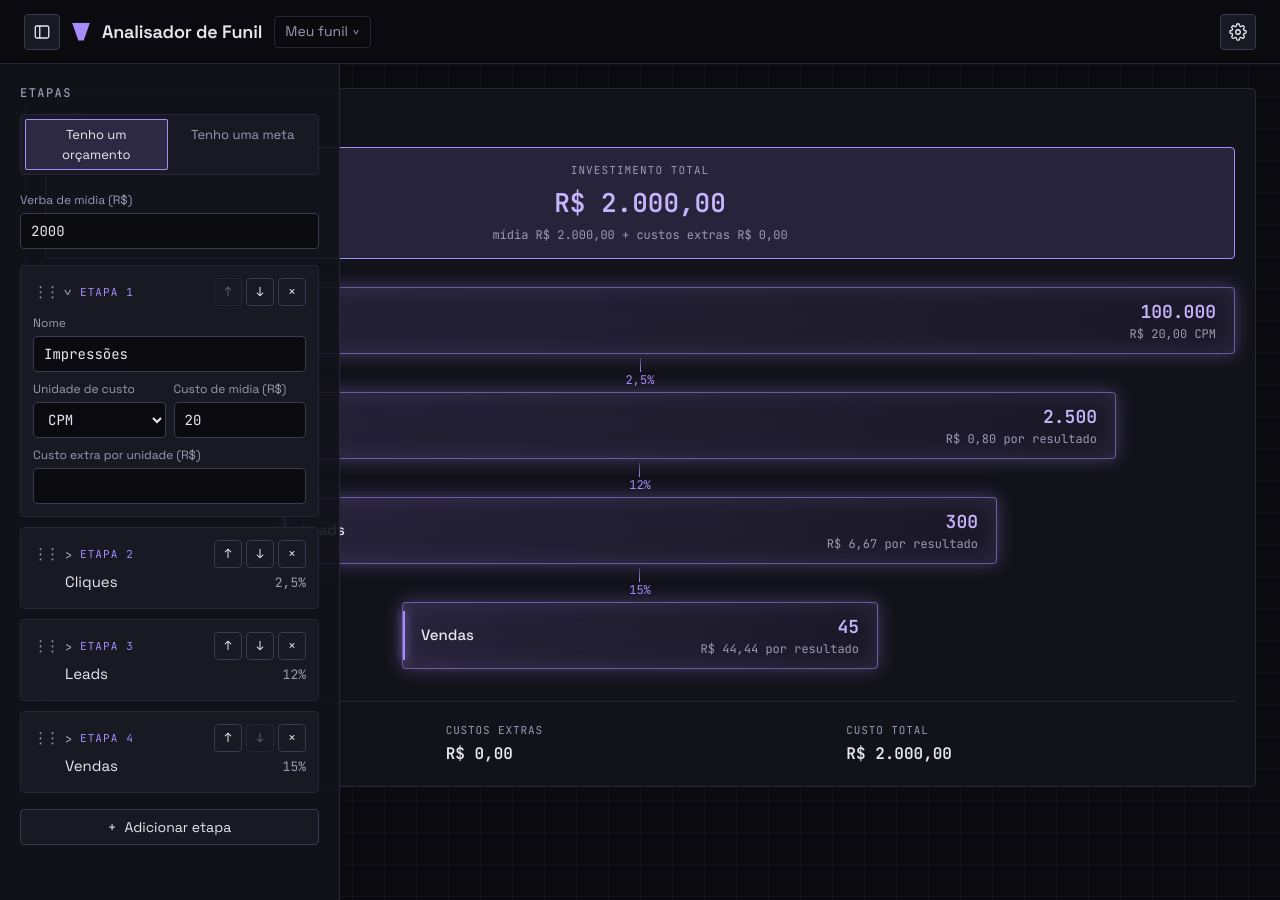
Scenario: trocar de funil pela lista mostra as etapas e os valores do outro
Click the button "Meu funil ›" at (322, 32), box [274, 16, 371, 48]
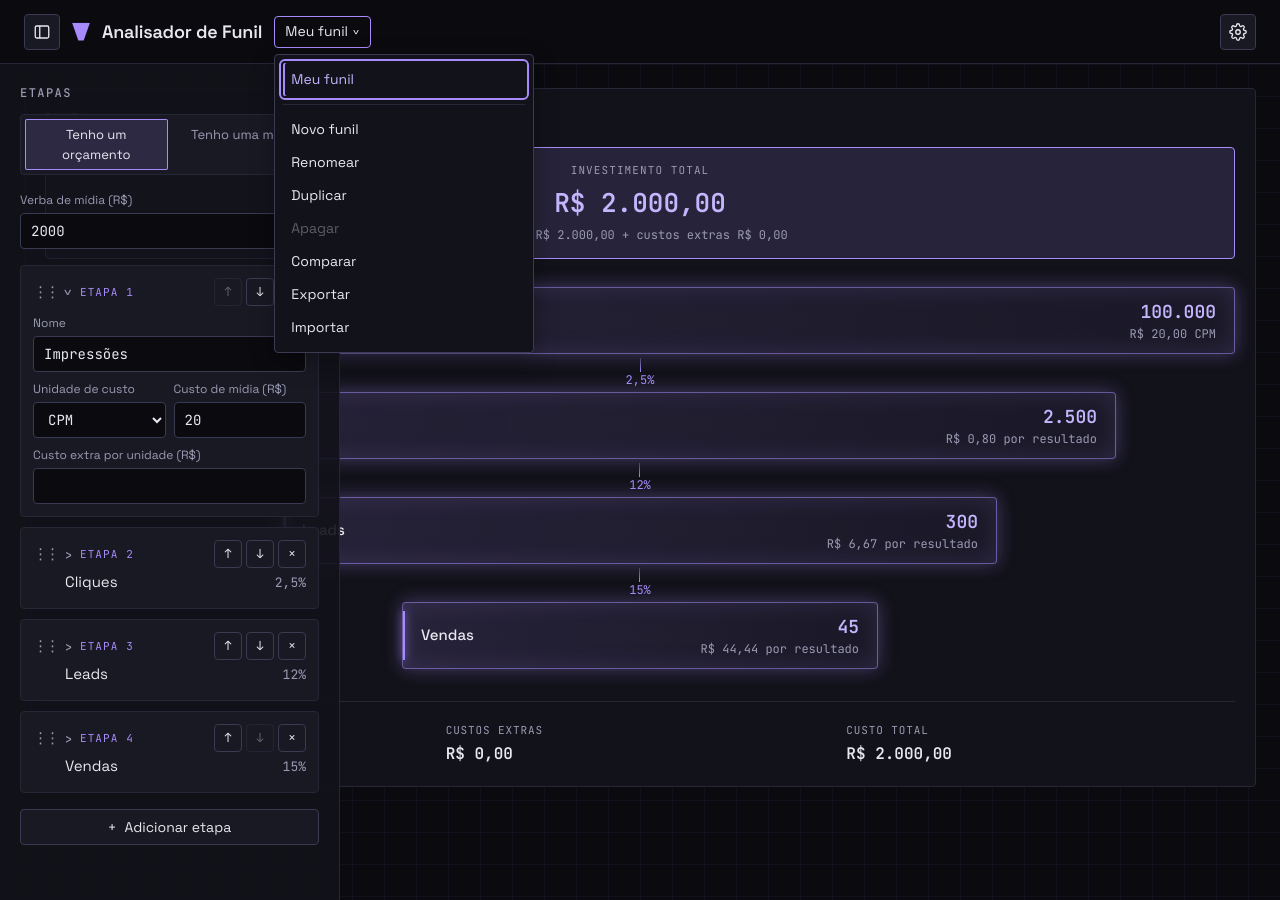
Click the button "Novo funil" at (404, 129), box [283, 112, 525, 146]
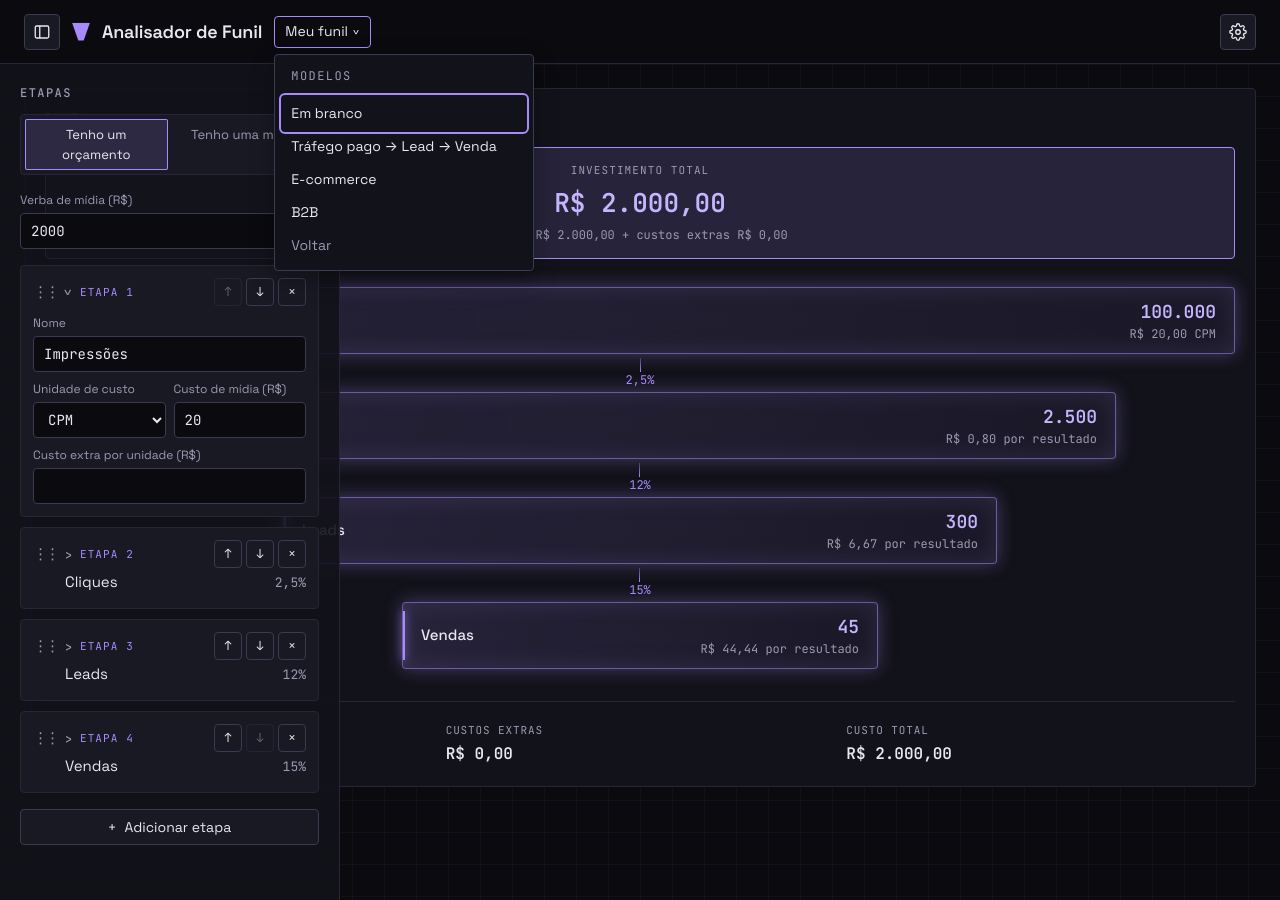
Click the button "B2B" at (404, 212), box [283, 196, 525, 228]
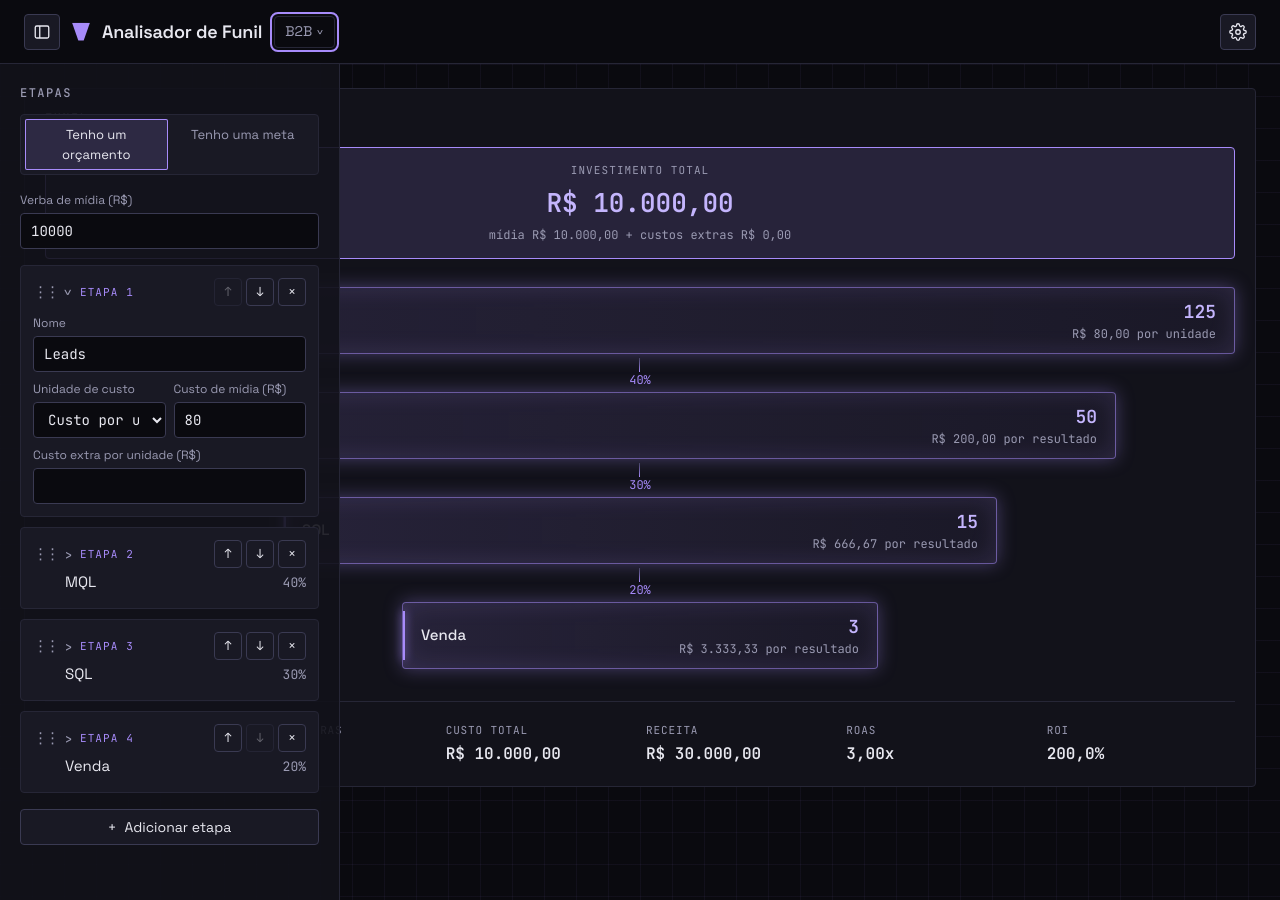
Check: the field labelled "Verba de mídia (R$)" holds "10000", box [20, 213, 319, 249]
Click the button "B2B ›" at (305, 32), box [274, 16, 335, 48]
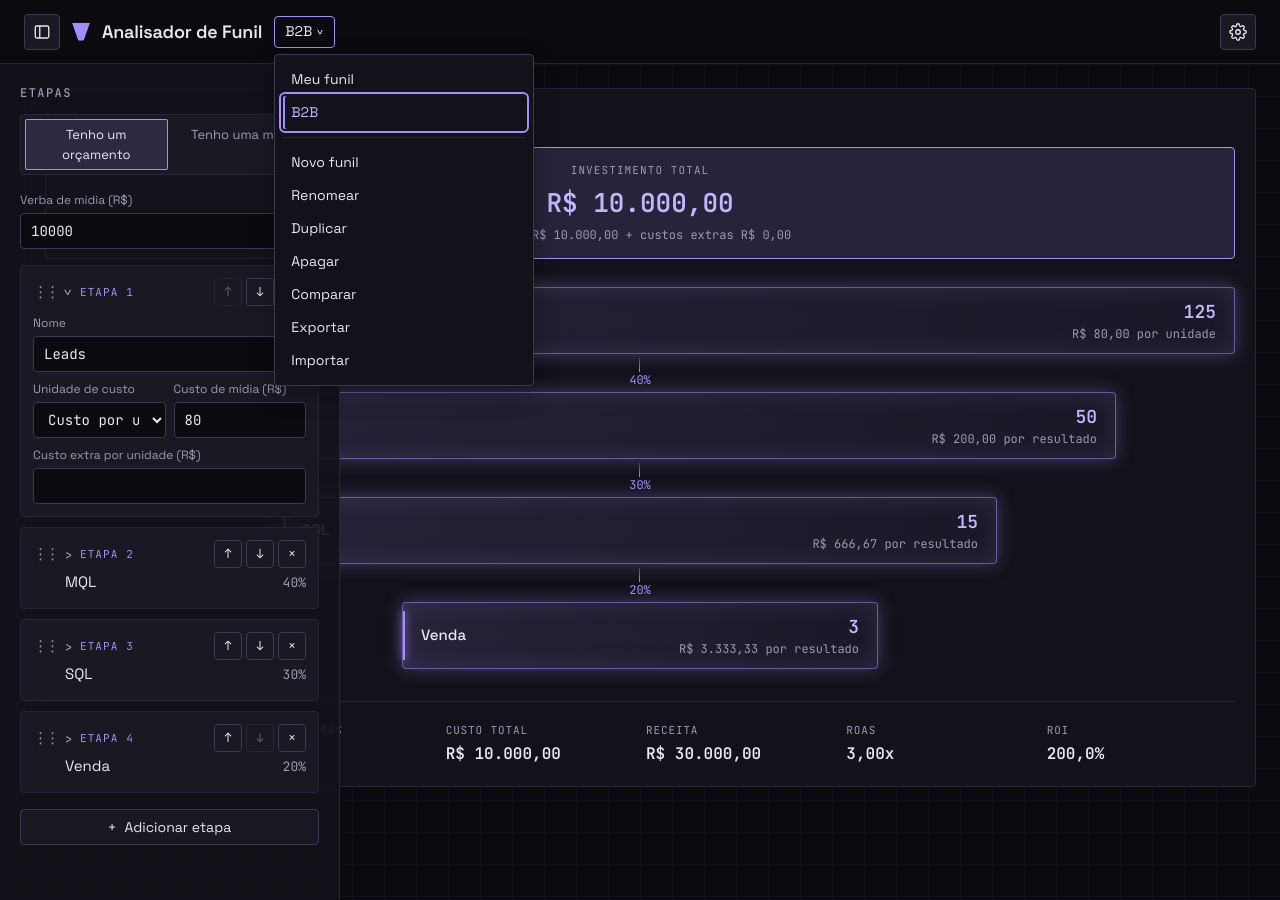
Click the button "Meu funil" at (404, 79), box [283, 62, 525, 96]
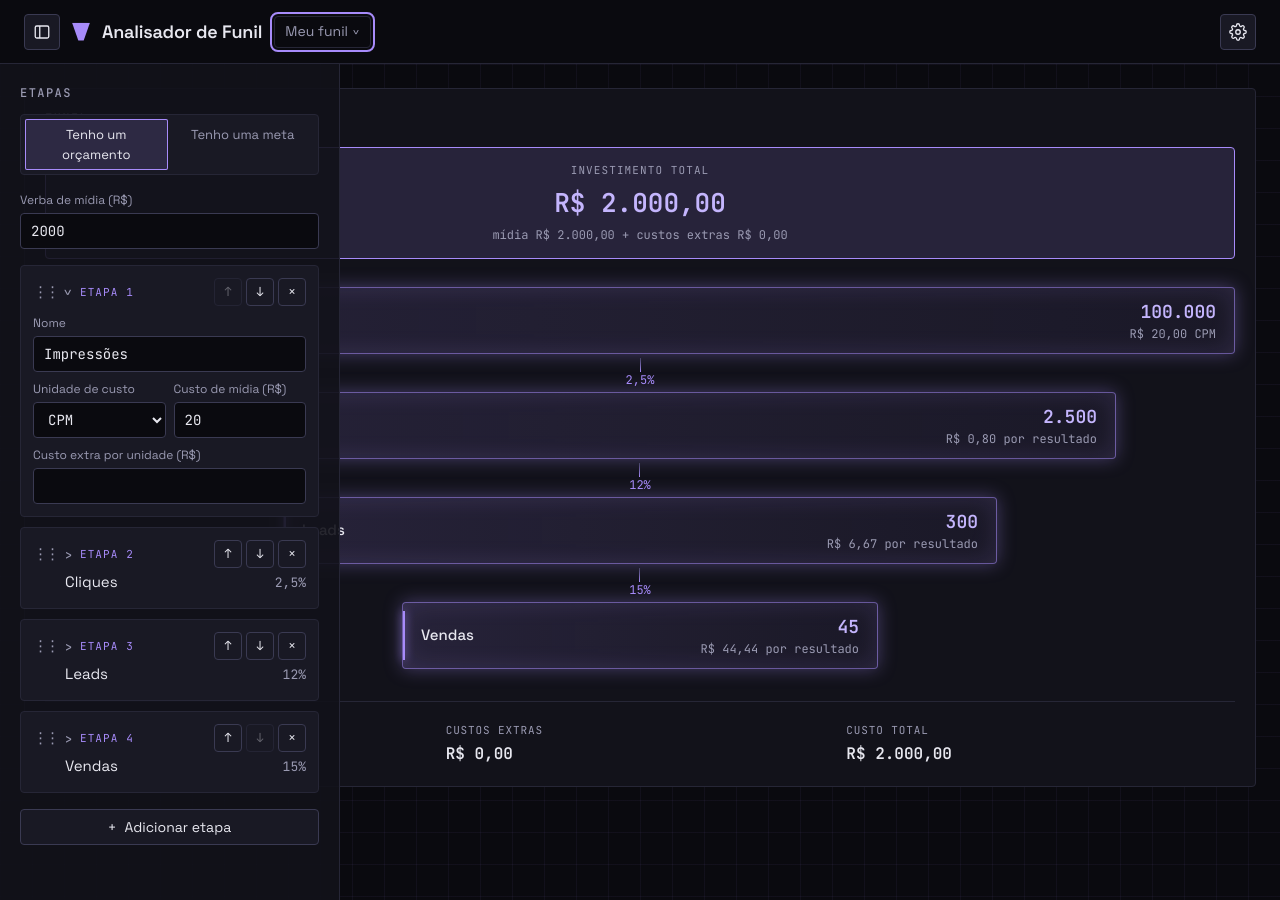
Check: the field labelled "Verba de mídia (R$)" holds "2000", box [20, 213, 319, 249]
